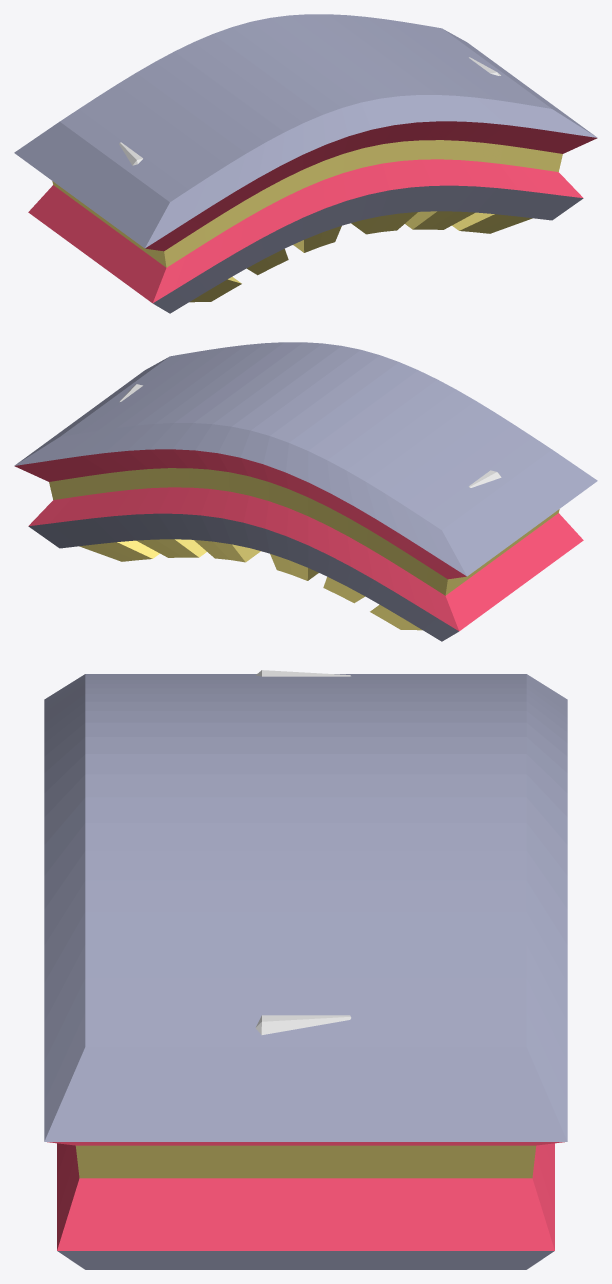
The picture shows the model from 3 angles, top to bottom: view 1: azimuth 30°, elevation 25°; view 2: azimuth 150°, elevation 25°; view 3: azimuth 270°, elevation 25°; orthographic projection. The views are drawn at different scales.
Visible parts, largest first — view 1: Paddle; view 2: Paddle; view 3: Paddle, Brick.
Boxes of the visible parts, bbox=[...] form: Paddle: bbox=[14, 14, 597, 313]; Paddle: bbox=[14, 342, 597, 641]; Paddle: bbox=[44, 674, 567, 1269]; Brick: bbox=[255, 670, 351, 1034].
Bounding box in the file's own units: 474 × 173 × 237.
